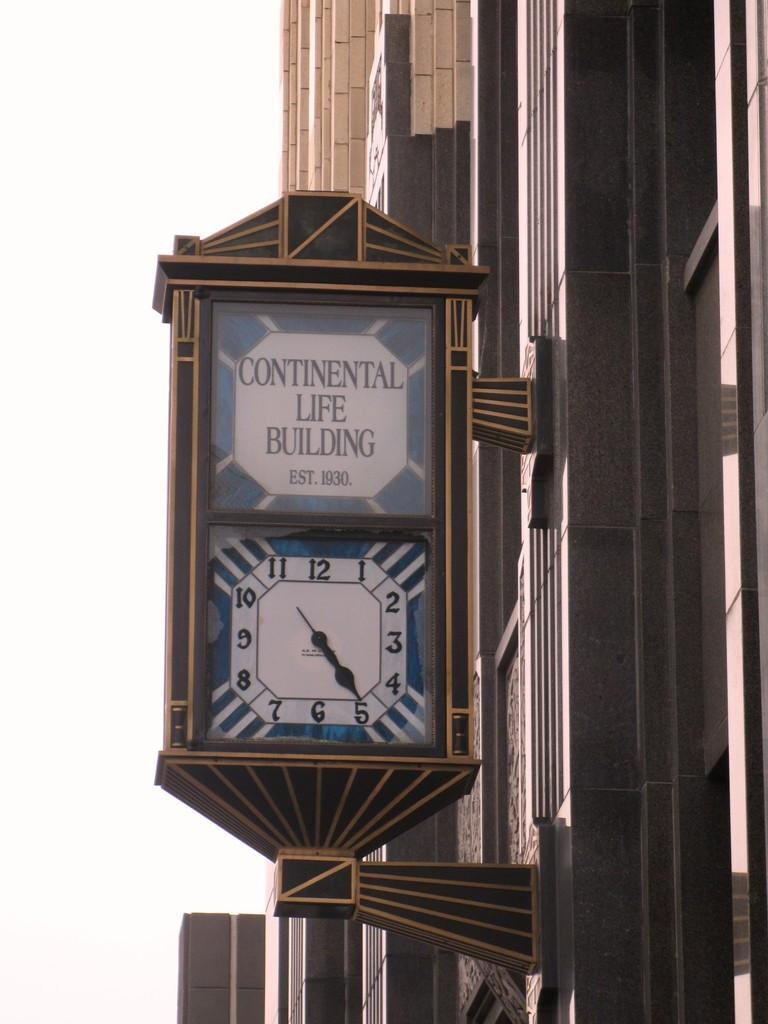Computer-monitor: (150, 191, 491, 864)
